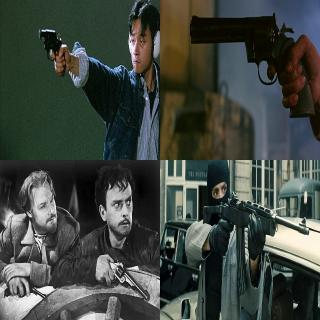gun: (188, 8, 316, 128), (202, 182, 312, 302), (107, 255, 150, 301), (38, 24, 66, 76), (3, 278, 47, 300)
